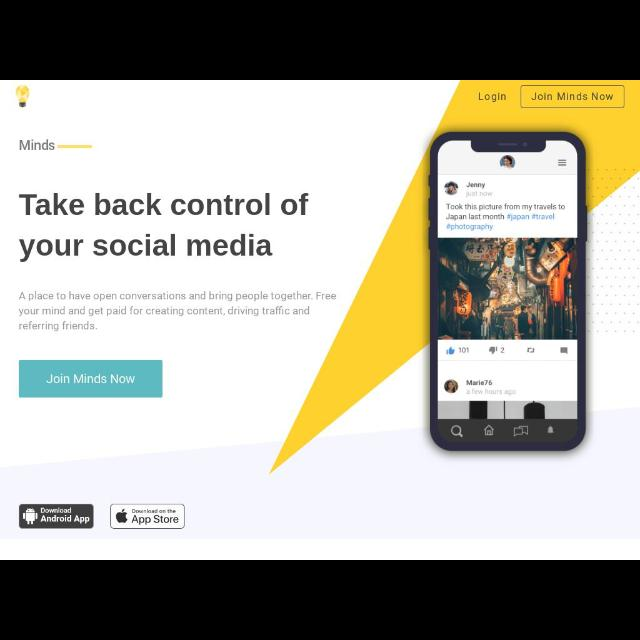icon: (22, 508, 38, 524), (116, 508, 128, 524)
image: (429, 132, 586, 452), (19, 140, 93, 150), (15, 84, 30, 108)
text: (19, 291, 337, 333), (18, 234, 272, 262), (19, 192, 309, 215), (46, 374, 136, 384), (132, 508, 178, 526), (40, 508, 90, 524), (531, 92, 613, 100), (478, 92, 506, 102)
textbutton: (19, 360, 163, 398), (521, 85, 625, 108), (110, 504, 186, 528), (20, 504, 94, 528)
